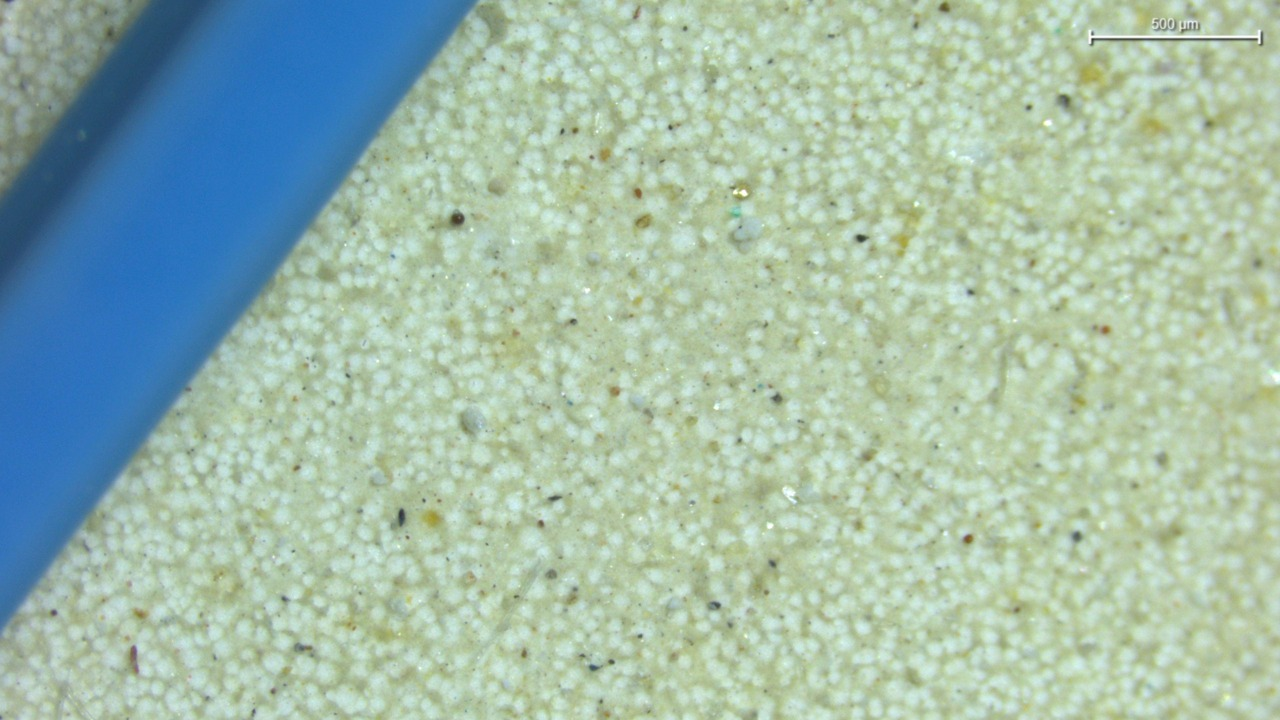microplastic_fragment: (731, 217, 762, 252), (460, 406, 484, 434), (370, 469, 389, 486)
